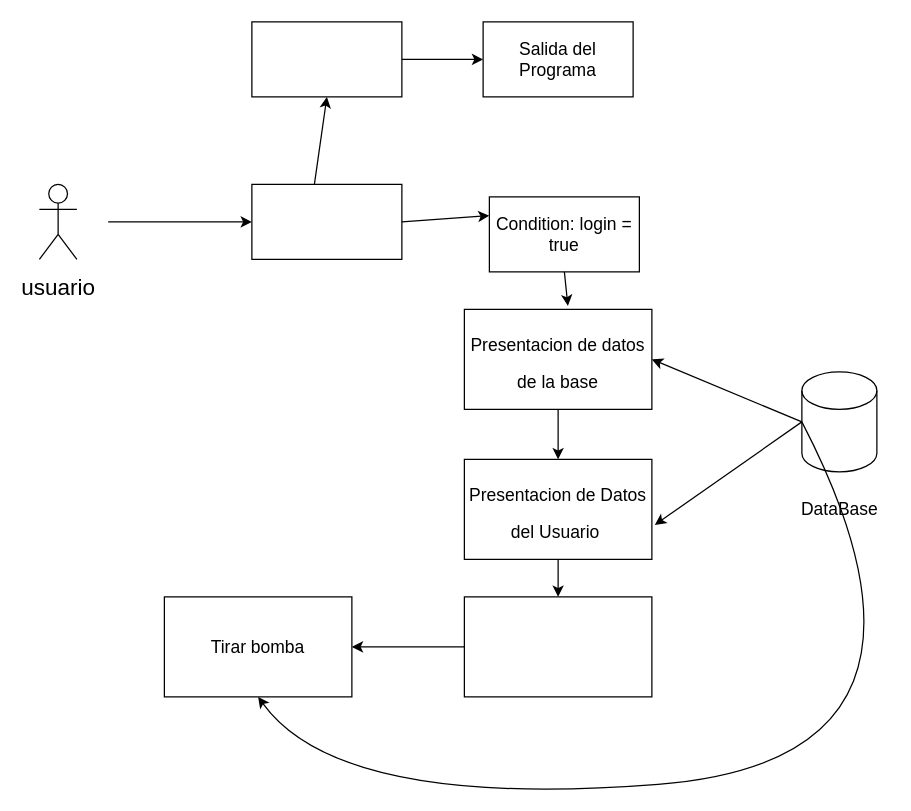
Some shapes in this 911 by 811 pixel diagram are drawn without their labels. Here are the shapes that lost their labels. From the top down, the centre of each, then its label:
At pixel 326 59: "Condition: login = false".
At pixel 326 221: "LOGIN".
At pixel 557 646: "Diagrama AFD".
